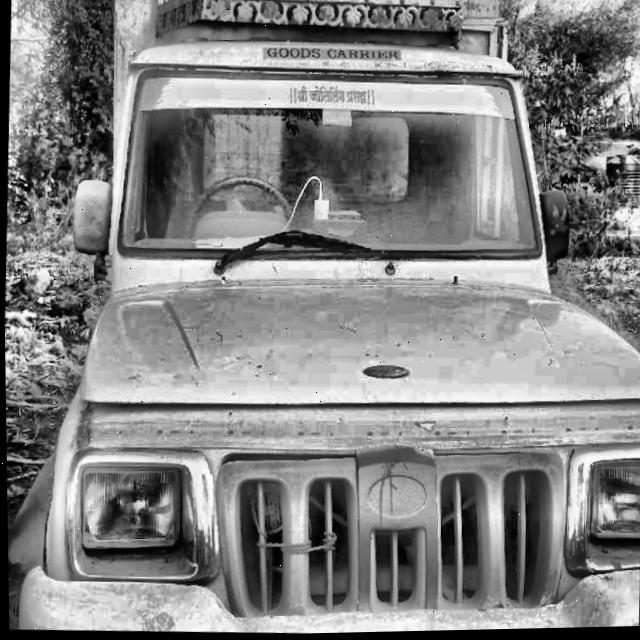light_vehicle: (9, 0, 640, 640)
